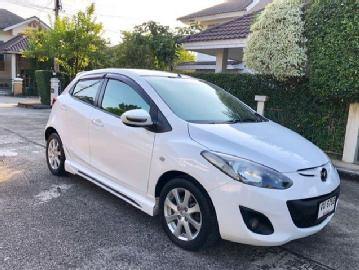sedan: (42, 66, 342, 251)
